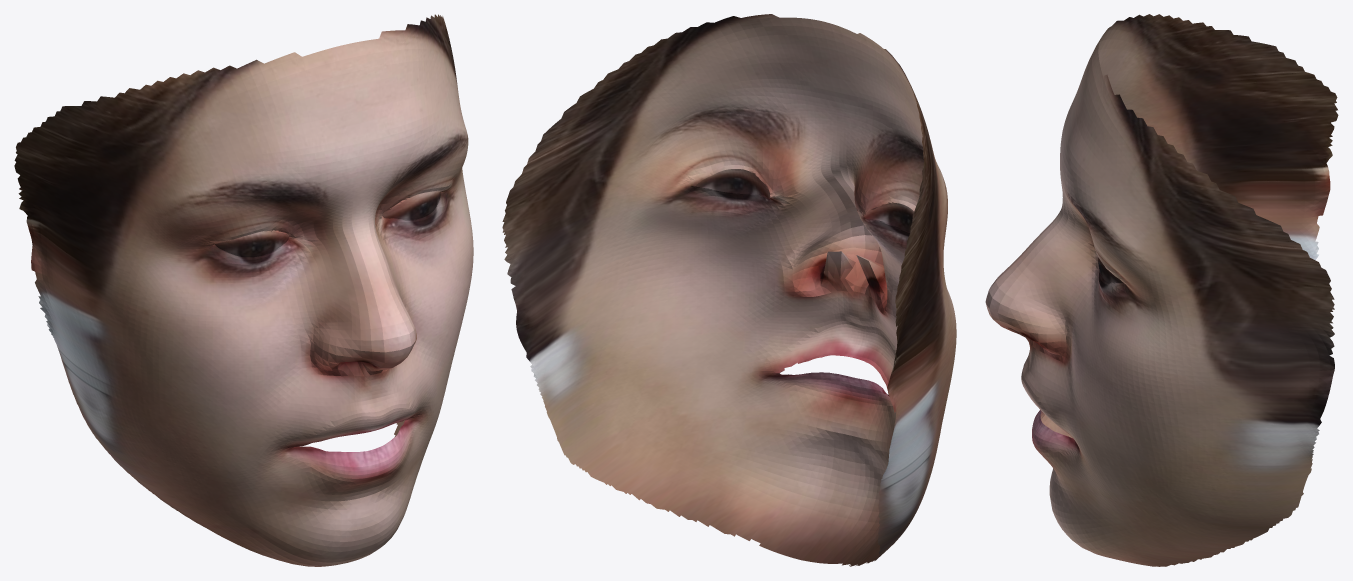
3 views of the same model, side by side, from view 1: azimuth 30°, elevation 25°; view 2: azimuth 150°, elevation 25°; view 3: azimuth 270°, elevation 25° (orthographic). The views are drawn at different scales.
Bounding box in the file's own units: 684 × 863 × 548.
Materials: 1 (1 with a texture image).
